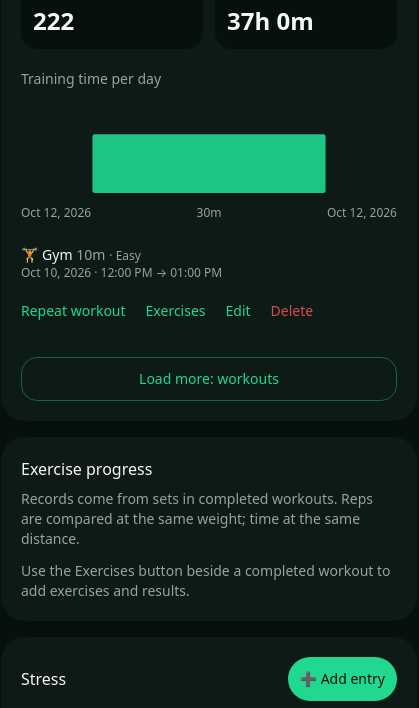
it: keeps already loaded records visible and permits retry after a page error
(page scrolled)
Click the button "Load more: workouts": (209, 379) [21,357,397,401]
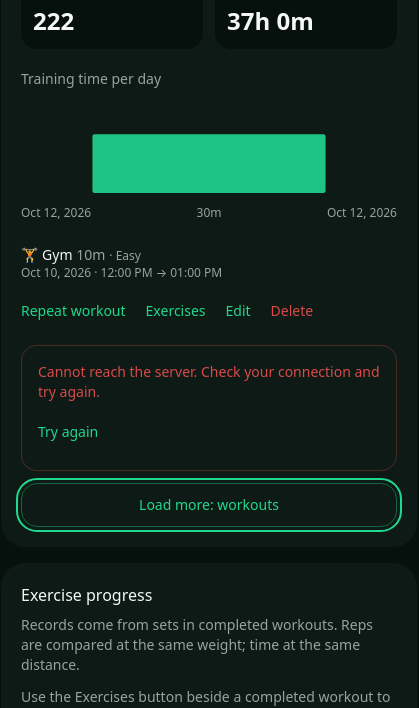
Expected: the number of buttons "Exercises" is 1, [146,289,206,333]
Expected: the message shows "Cannot reach the server", [38,362,380,401]
Click the button "Try again": (68, 432) [38,410,98,454]
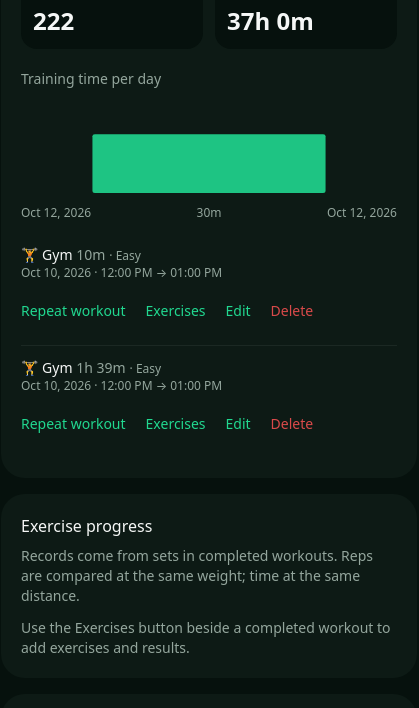
Expected: the number of buttons "Exercises" is 2, [146,289,206,333]; [146,402,206,446]
